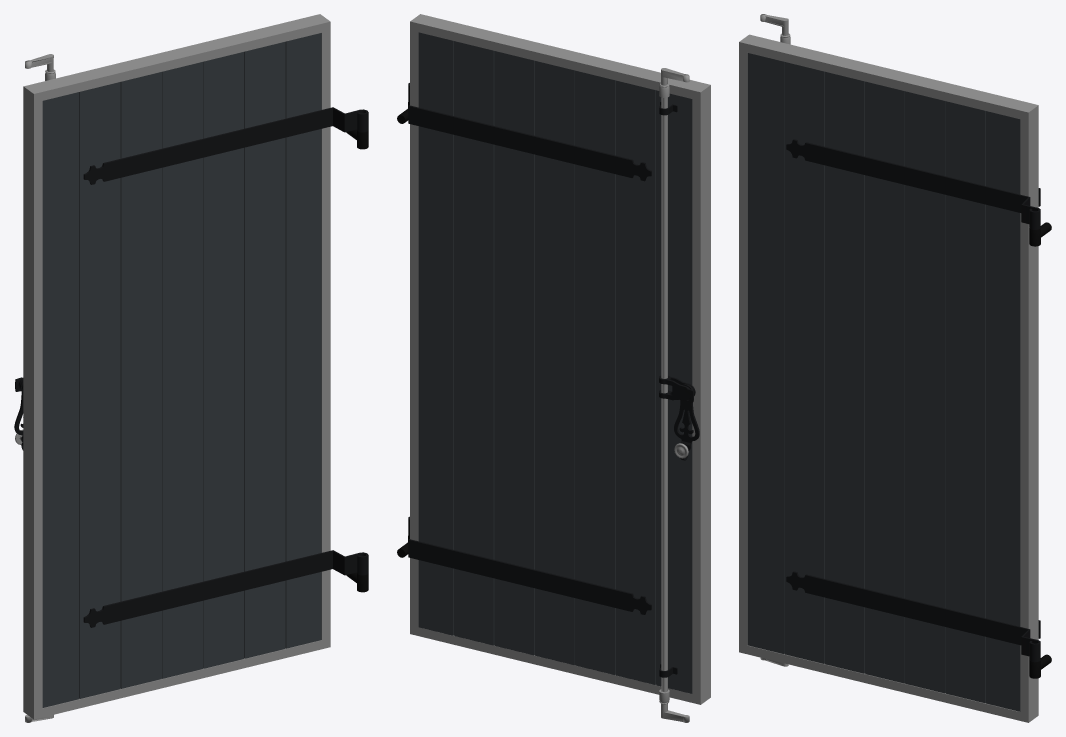
3 renders of one model, left to right at view 1: azimuth 30°, elevation 25°; view 2: azimuth 150°, elevation 25°; view 3: azimuth 330°, elevation 25°, orthographic. The views are drawn at different scales.
Parts seen in each view (by area): view 1: Box003, Rectangle076, Plane003, Plane004; view 2: Box003, Rectangle076, Plane007, Plane008, Circle002, Shape1, Tube001; view 3: Box003, Rectangle076, Plane003, Plane004.
Boxes of the visible parts, bbox=[...] form: Box003: bbox=[42, 33, 321, 707]; Rectangle076: bbox=[23, 14, 330, 719]; Plane003: bbox=[83, 107, 368, 184]; Plane004: bbox=[83, 550, 368, 627]; Box003: bbox=[418, 32, 692, 693]; Rectangle076: bbox=[410, 14, 710, 704]; Plane007: bbox=[408, 105, 651, 181]; Plane008: bbox=[408, 539, 651, 614]; Circle002: bbox=[661, 97, 667, 692]; Shape1: bbox=[674, 384, 699, 460]; Tube001: bbox=[659, 375, 695, 400]; Box003: bbox=[747, 53, 1020, 711]; Rectangle076: bbox=[739, 34, 1038, 722]; Plane003: bbox=[786, 139, 1040, 229]; Plane004: bbox=[786, 571, 1040, 661].
Size of the model in its own units: 755 by 1470 by 151.
Materials: 5 (2 with a texture image).
